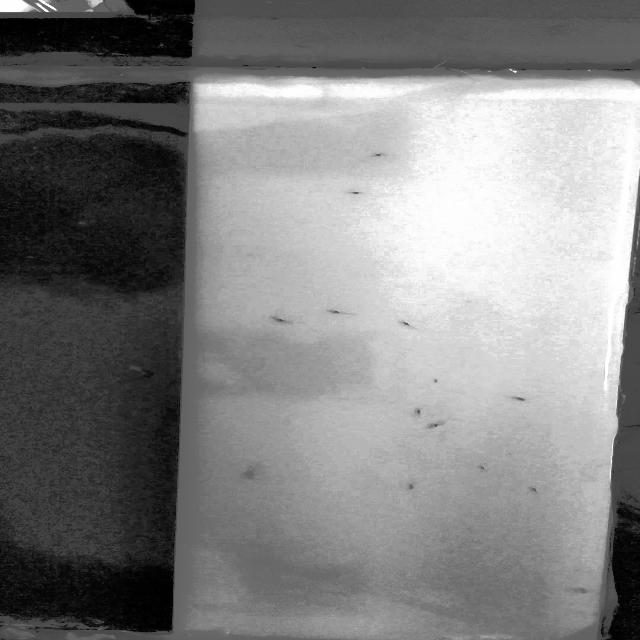shrimp: (327, 183, 382, 200), (254, 315, 306, 330), (326, 305, 363, 319), (396, 478, 433, 491), (529, 482, 553, 500), (359, 150, 398, 161), (393, 320, 425, 333), (419, 420, 457, 430), (395, 404, 426, 416), (231, 469, 257, 483), (478, 466, 501, 476), (516, 397, 541, 406)
